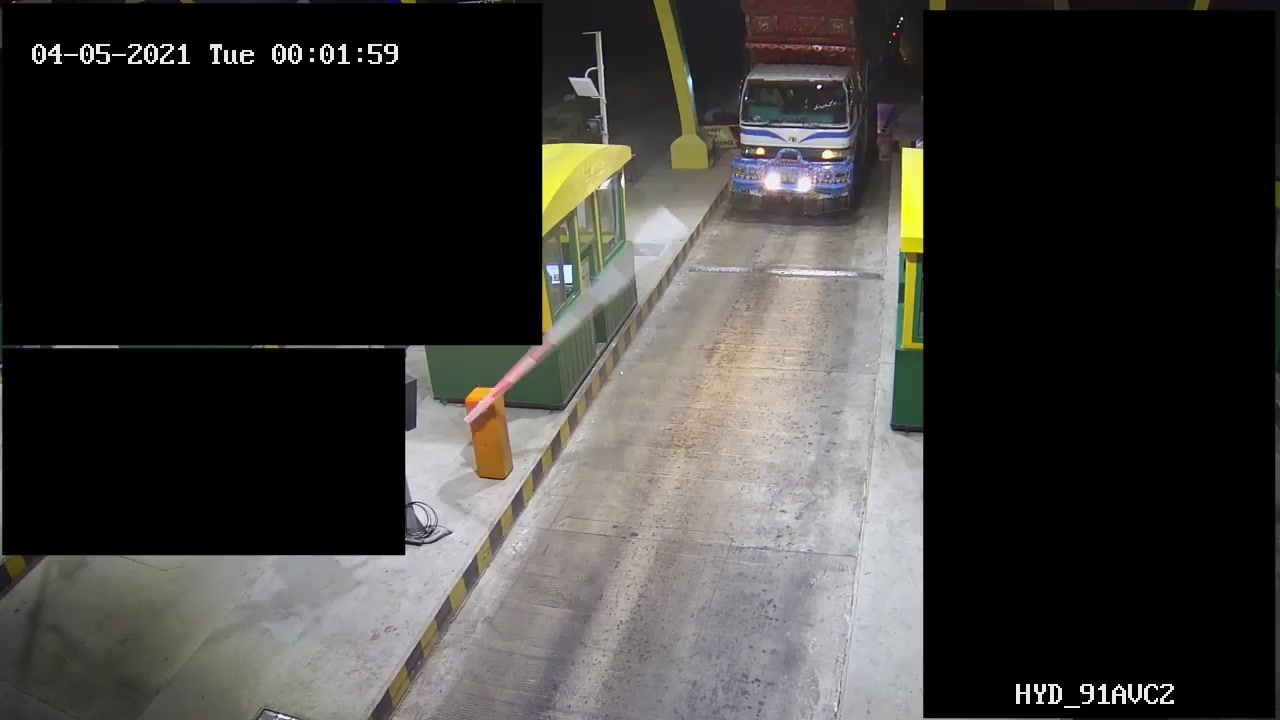F5: (723, 1, 875, 219)
